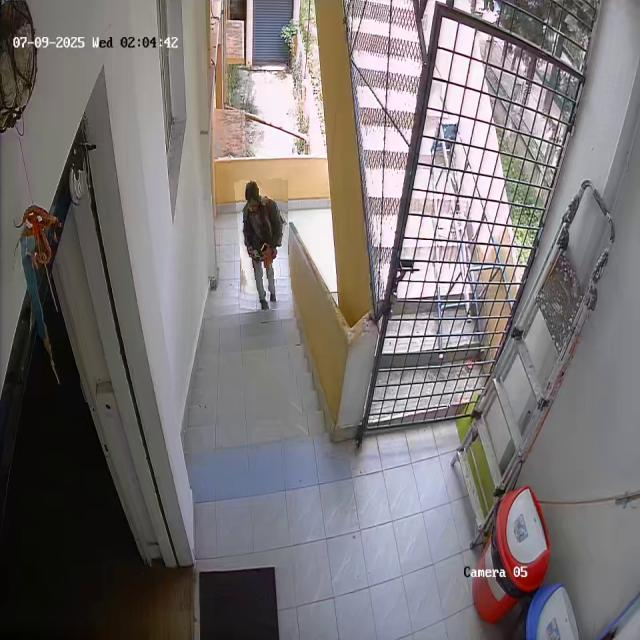person: (237, 179, 291, 311)
